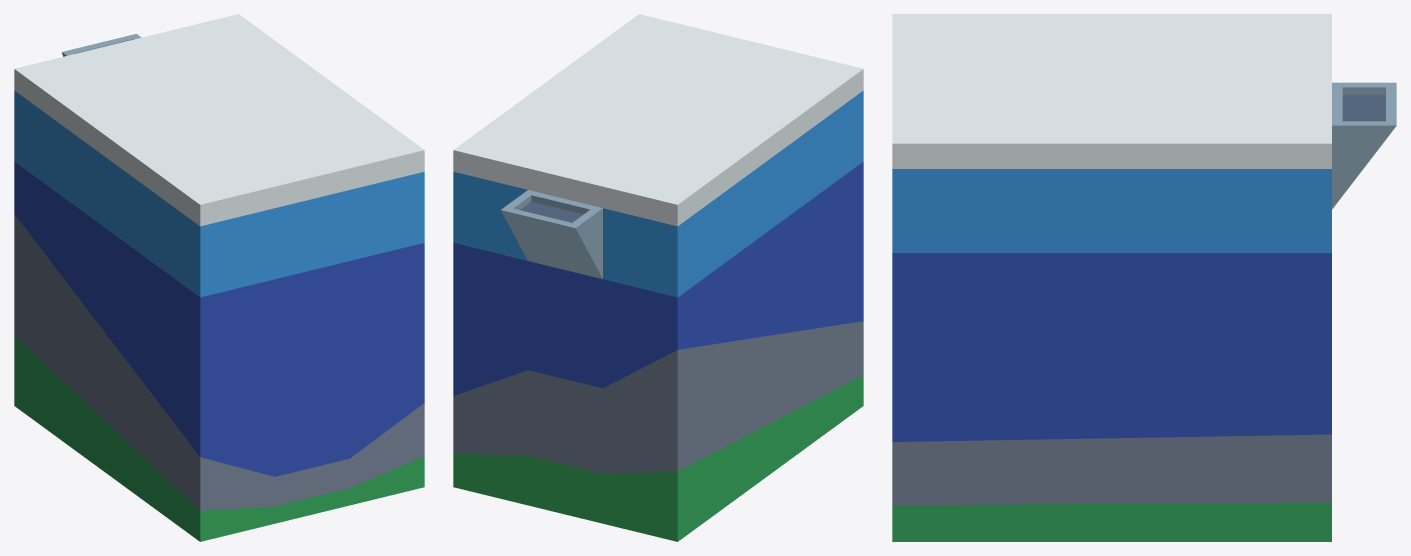
Rendered from LaundryRoom_SoapDust.fbx.
3 renders of one model, left to right at view 1: azimuth 30°, elevation 25°; view 2: azimuth 150°, elevation 25°; view 3: azimuth 270°, elevation 25°, orthographic. The views are drawn at different scales.
Visible parts, largest first — view 1: Cube.395; view 2: Cube.395; view 3: Cube.395.
Part boxes in pixels (x1,y1,x2,y2): Cube.395: [14, 14, 424, 541]; Cube.395: [453, 14, 863, 541]; Cube.395: [892, 14, 1396, 541].
Bounding box in the file's own units: 10.57 × 15.16 × 17.39.
